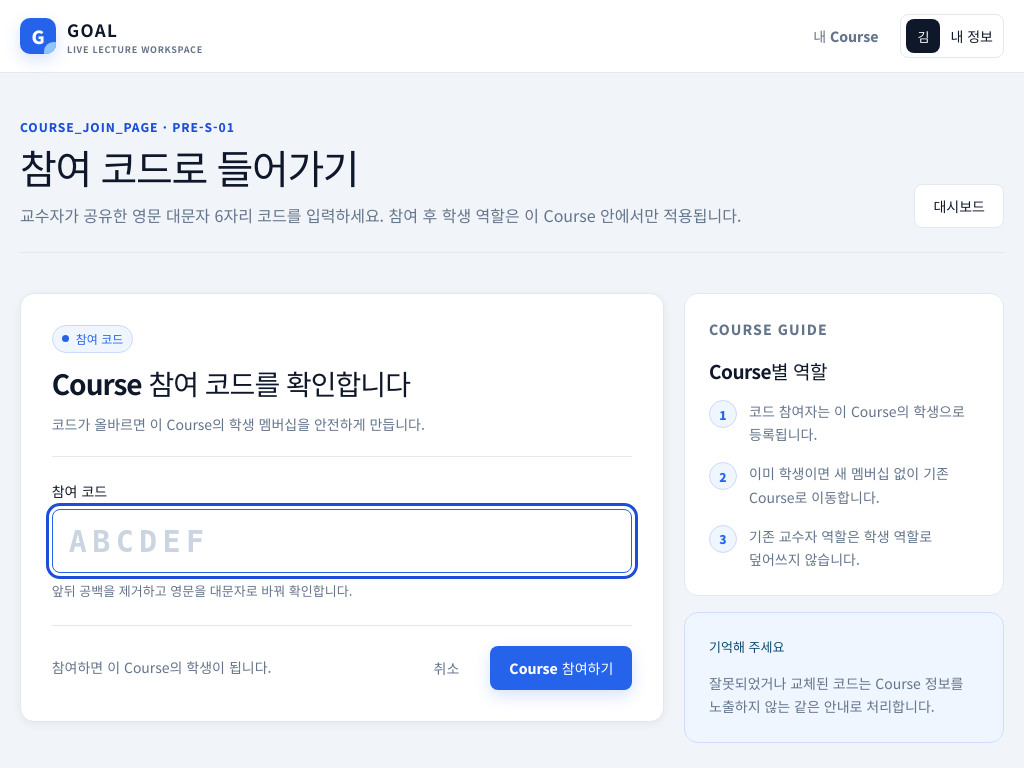
COURSE_JOIN_PAGE › distinguishes an existing student membership from a new join
Type "ABCXYZ" into the field labelled "참여 코드".
click(342, 541); type("ABCXYZ")  # box [52,509,632,573]
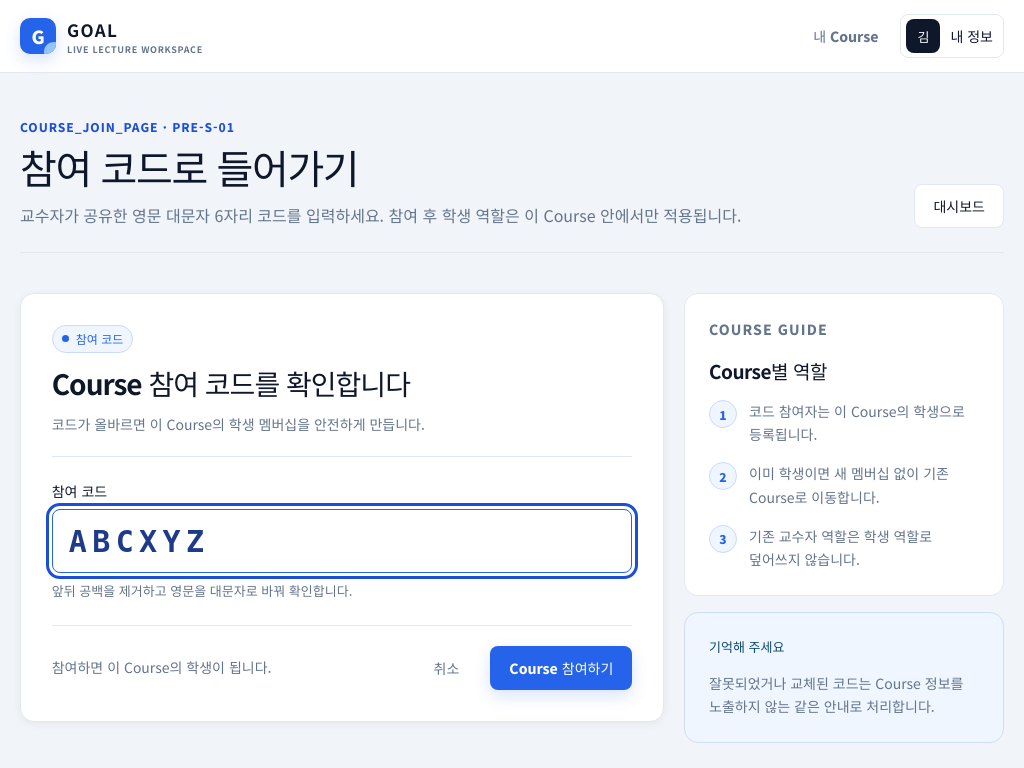
Click the button "Course 참여하기".
click(561, 668)  # box [490,646,632,690]
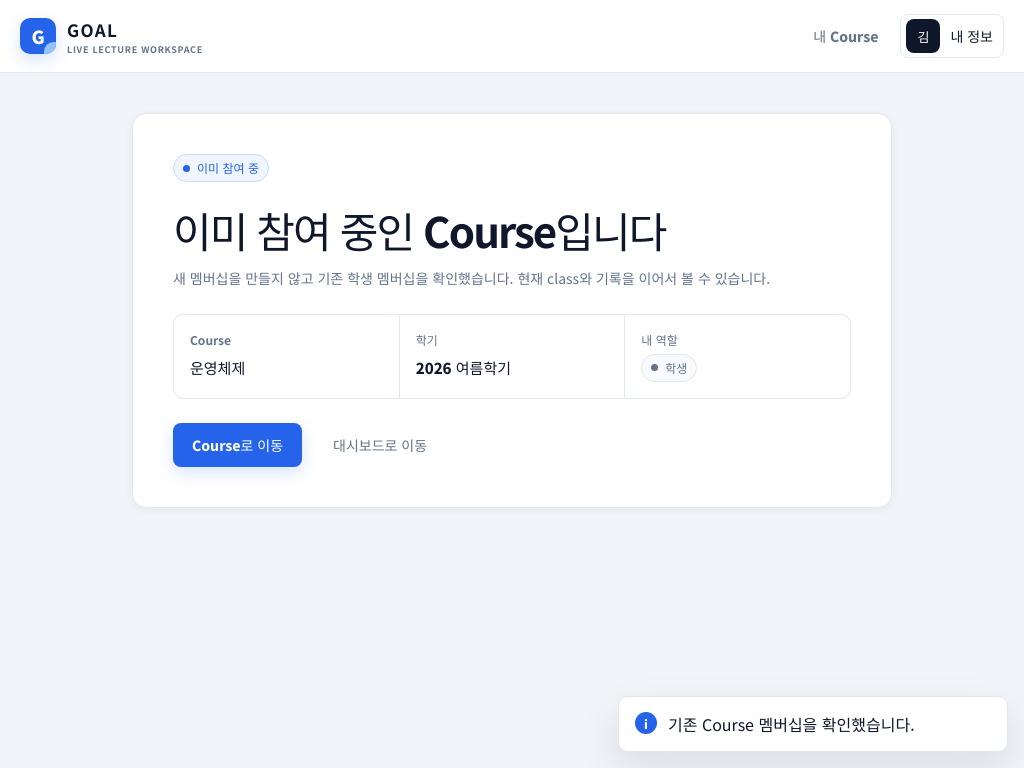
Expected: the text "ABCXYZ" is not shown
Now the text "이미 참여 중" is shown, box [173,154,269,182]
